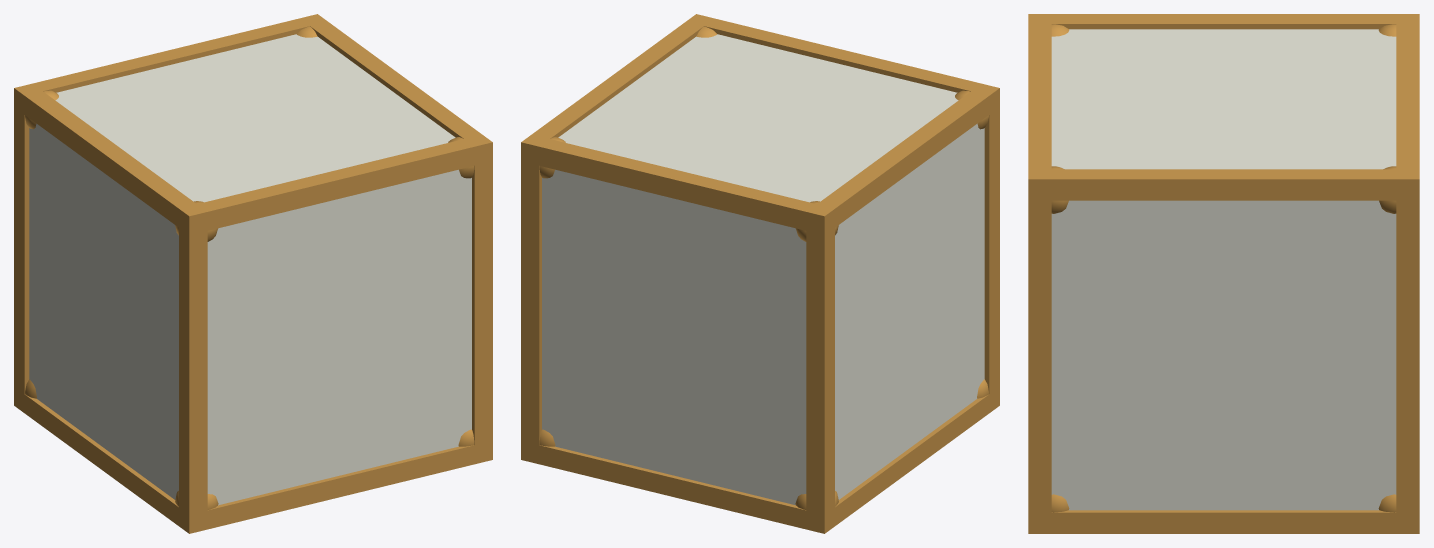
Rendered from crowned.obj.
3 renders of one model, left to right at view 1: azimuth 30°, elevation 25°; view 2: azimuth 150°, elevation 25°; view 3: azimuth 270°, elevation 25°, orthographic. The views are drawn at different scales.
Size of the model in its own units: 1 by 1 by 1.
